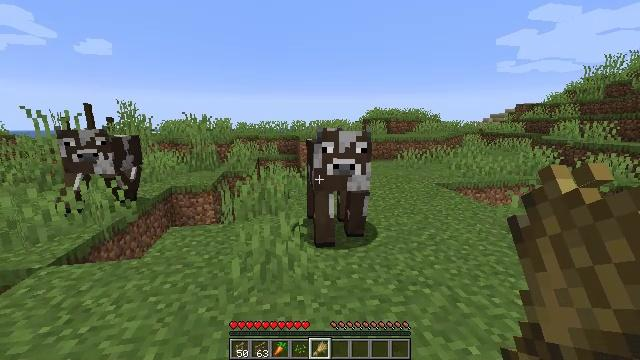cow: (306, 128, 370, 247), (58, 129, 139, 206)
